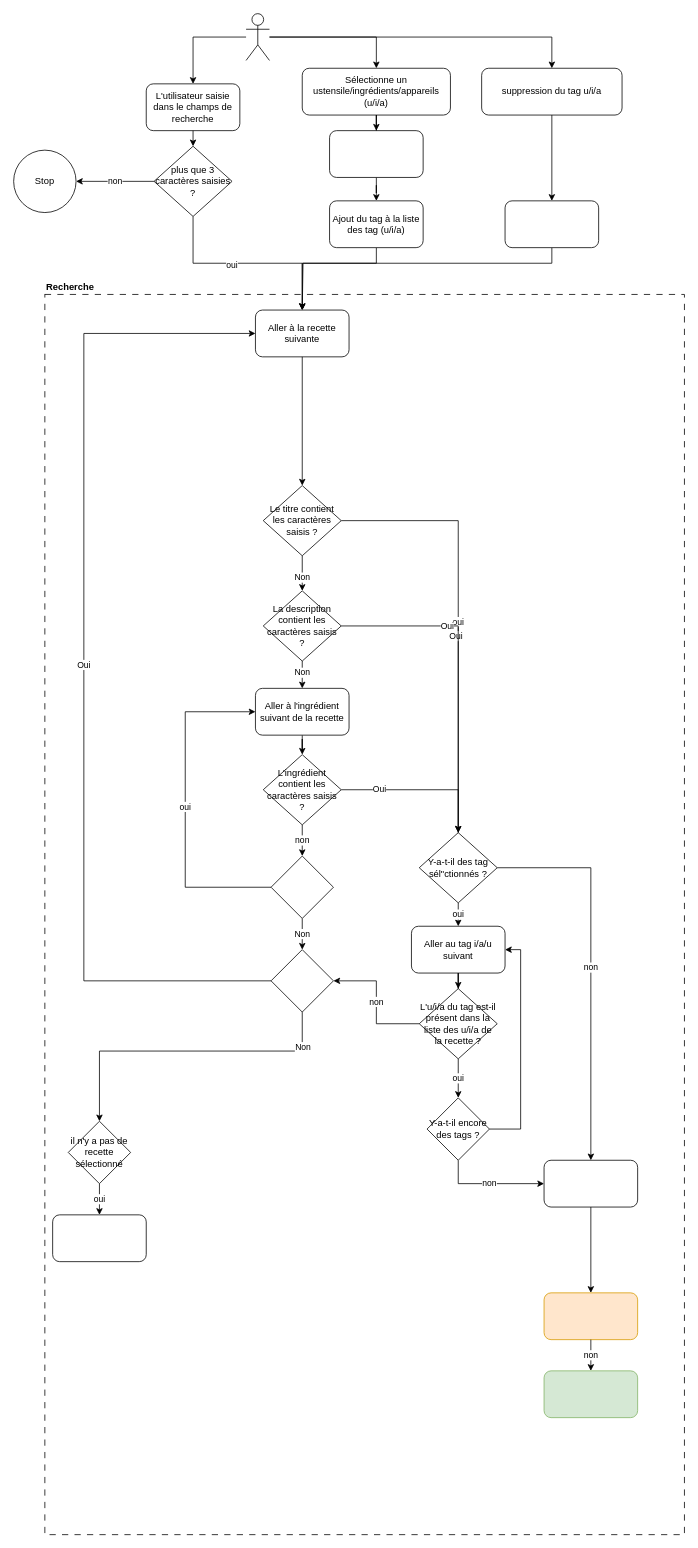
The diagram is 698 pixels wide and 1548 high, and some of its shapes have lost their labels. Here are the shapes that lost their labels. From the top down, the centre of each, then its label:
[257,36]: Utilisateur
[376,153]: Le tag s'affiche sous le champs de recherche
[551,224]: Supprimer le tag à la liste des tag (u/i/a)
[301,886]: Y-a-t-il encore des ingredients ?
[301,980]: Y-a-t-il encore des recettes ?
[590,1183]: On ajoute la recette à la liste des recettes sélectionnées
[99,1238]: On affiche "Aucune recette ne correspond à votre critère..."
[590,1316]: Met à jour la liste des u/i/a avec les u/i/a de la recettes
[590,1394]: On met à jour la liste des recettes sélectionnées
